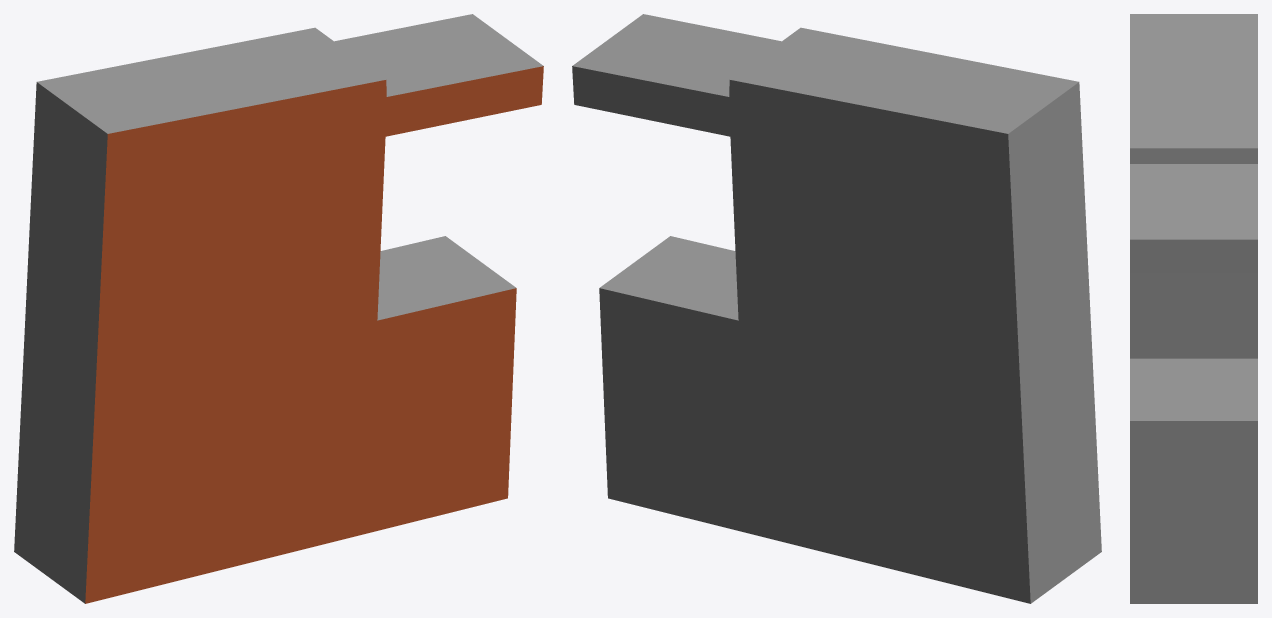
The model's file is construction_4596_assumed_A_Casa_h6m.obj.
3 renders of one model, left to right at view 1: azimuth 30°, elevation 25°; view 2: azimuth 150°, elevation 25°; view 3: azimuth 270°, elevation 25°, orthographic. The views are drawn at different scales.
Visible parts, largest first — view 1: construction_4596_assumed_A_Casa; view 2: construction_4596_assumed_A_Casa; view 3: construction_4596_assumed_A_Casa.
Part boxes in pixels (left/top/right/bottom): construction_4596_assumed_A_Casa: left=14, top=14, right=543, bottom=603; construction_4596_assumed_A_Casa: left=572, top=14, right=1101, bottom=603; construction_4596_assumed_A_Casa: left=1130, top=14, right=1257, bottom=603.
Bounding box in the file's own units: 22.32 × 21.6 × 6.
